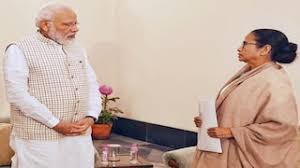Caution: (4, 3, 292, 168)
